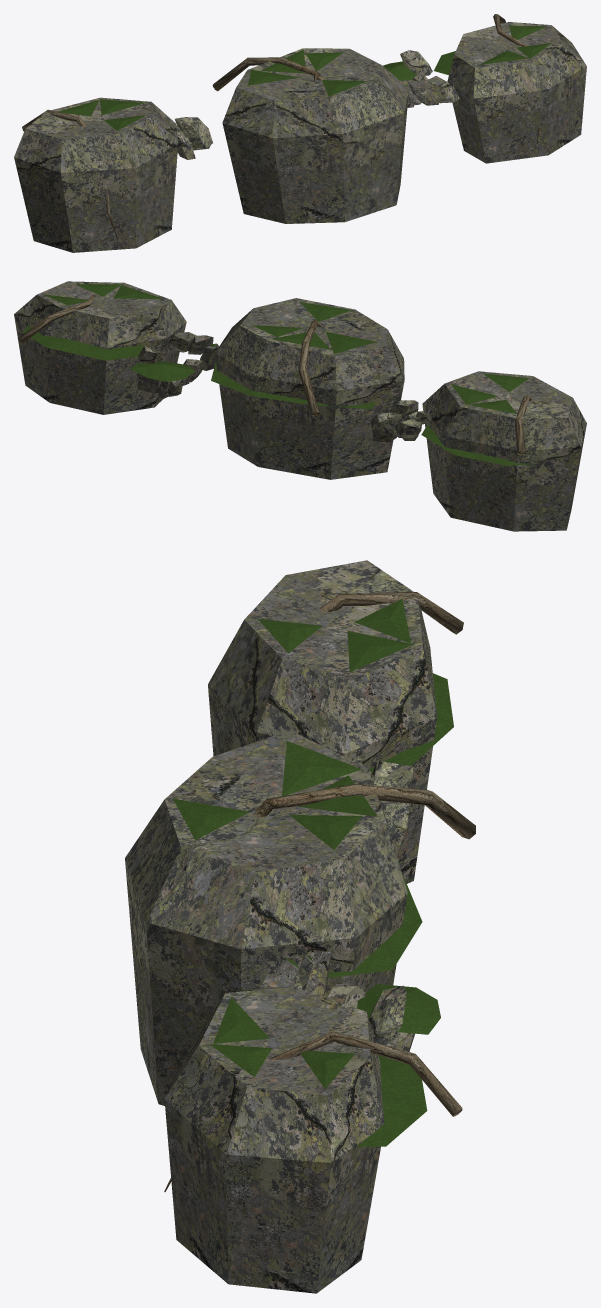
File: v3_eroded_bank.glb
3 views of the same model, one above another, from view 1: azimuth 30°, elevation 25°; view 2: azimuth 150°, elevation 25°; view 3: azimuth 270°, elevation 25° (orthographic). The views are drawn at different scales.
Visible parts, largest first — view 1: v3_wet_stone_surface, v3_deep_moss_surface, v3_wet_root_surface; view 2: v3_wet_stone_surface, v3_deep_moss_surface, v3_wet_root_surface; view 3: v3_wet_stone_surface, v3_deep_moss_surface, v3_wet_root_surface.
Boxes of the visible parts, box(x1,y1,x2,y2) form: v3_wet_stone_surface: box(14, 22, 586, 252); v3_deep_moss_surface: box(58, 25, 551, 130); v3_wet_root_surface: box(22, 14, 539, 240); v3_wet_stone_surface: box(14, 281, 586, 531); v3_deep_moss_surface: box(22, 284, 540, 465); v3_wet_root_surface: box(18, 295, 531, 454); v3_wet_stone_surface: box(125, 560, 437, 1293); v3_deep_moss_surface: box(173, 598, 453, 1147); v3_wet_root_surface: box(164, 592, 475, 1191).
Bounding box in the file's own units: 3.38 × 0.7485 × 0.9353.
Materials: 3 (3 with a texture image).
